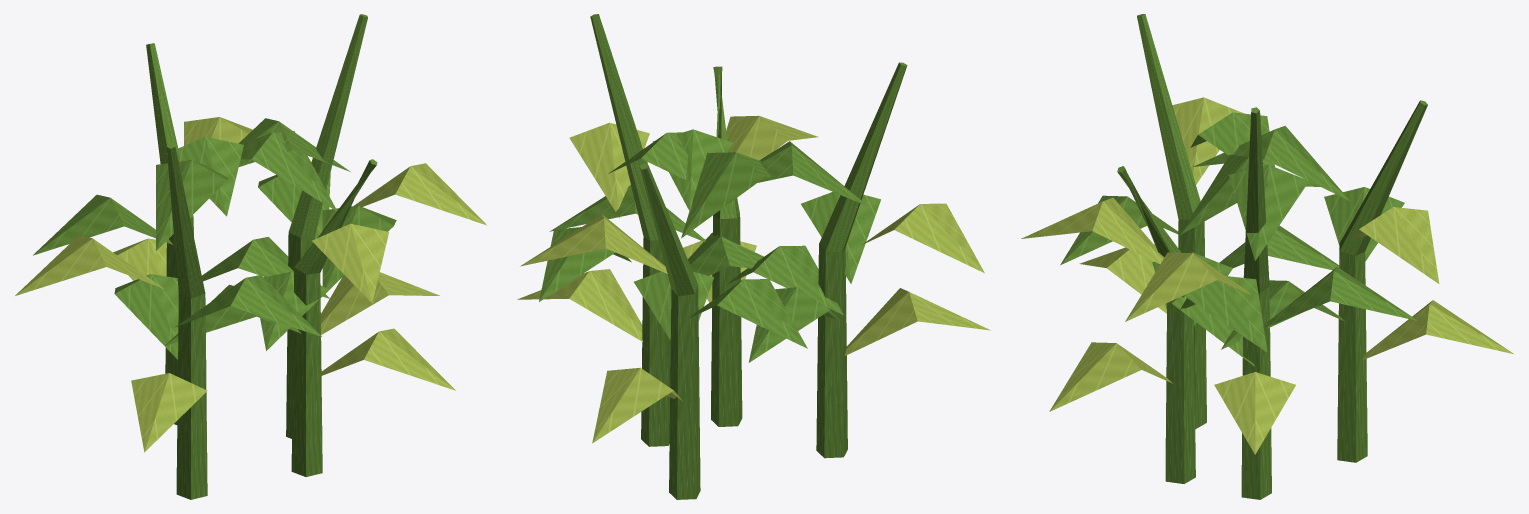
The model's file is crop-herbs-young.glb.
3 views of the same model, side by side, from view 1: azimuth 30°, elevation 25°; view 2: azimuth 150°, elevation 25°; view 3: azimuth 270°, elevation 25° (orthographic). The views are drawn at different scales.
Visible parts, largest first — view 1: crop-herbs-young; view 2: crop-herbs-young; view 3: crop-herbs-young.
Boxes of the visible parts, x1=… form: crop-herbs-young: x1=15, y1=14, x2=486, y2=499; crop-herbs-young: x1=517, y1=14, x2=990, y2=499; crop-herbs-young: x1=1021, y1=14, x2=1513, y2=499.
Bounding box in the file's own units: 0.4373 × 0.3812 × 0.4116.
Materials: 1 (1 with a texture image).
